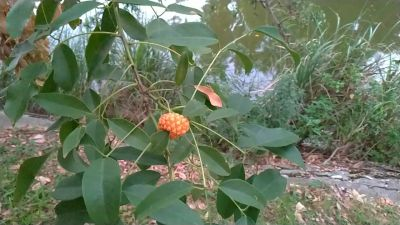eggs: (159, 111, 189, 136)
